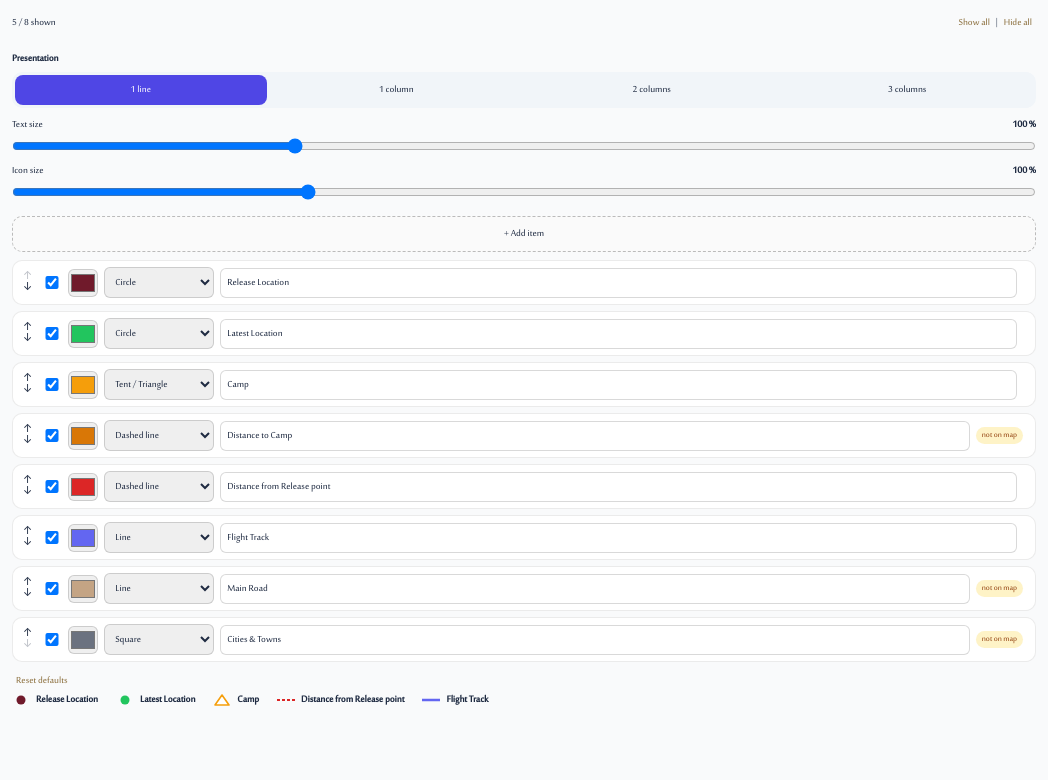
Test: Legend editor ↔ map legend stay in sync › typing in the editor changes the printed legend immediately
Expected: the text "Release Location" is shown, [36,692,98,707]
Clear the field named "Release Location text" at (619, 282), box [220,268,1017,298]
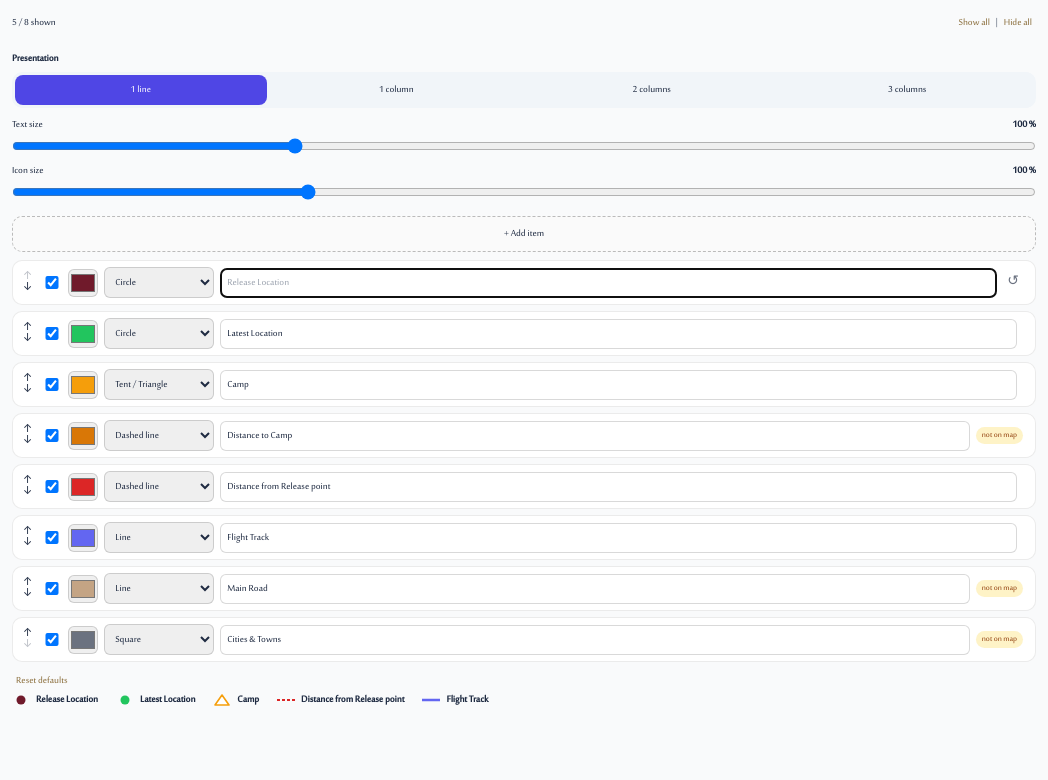
Type "Release Loc" into the field named "Release Location text" at (609, 282), box [220,268,997,298]
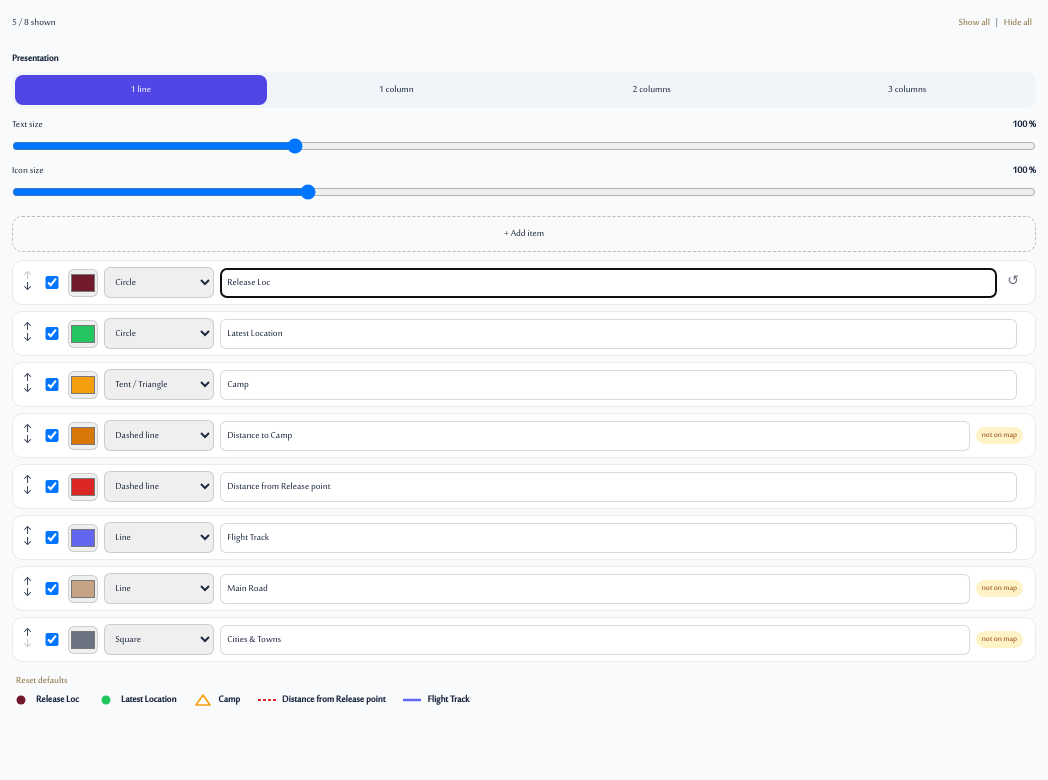
Expected: the text "Release Loc" is shown, [36,692,79,707]
Expected: the text "Release Location" is gone
